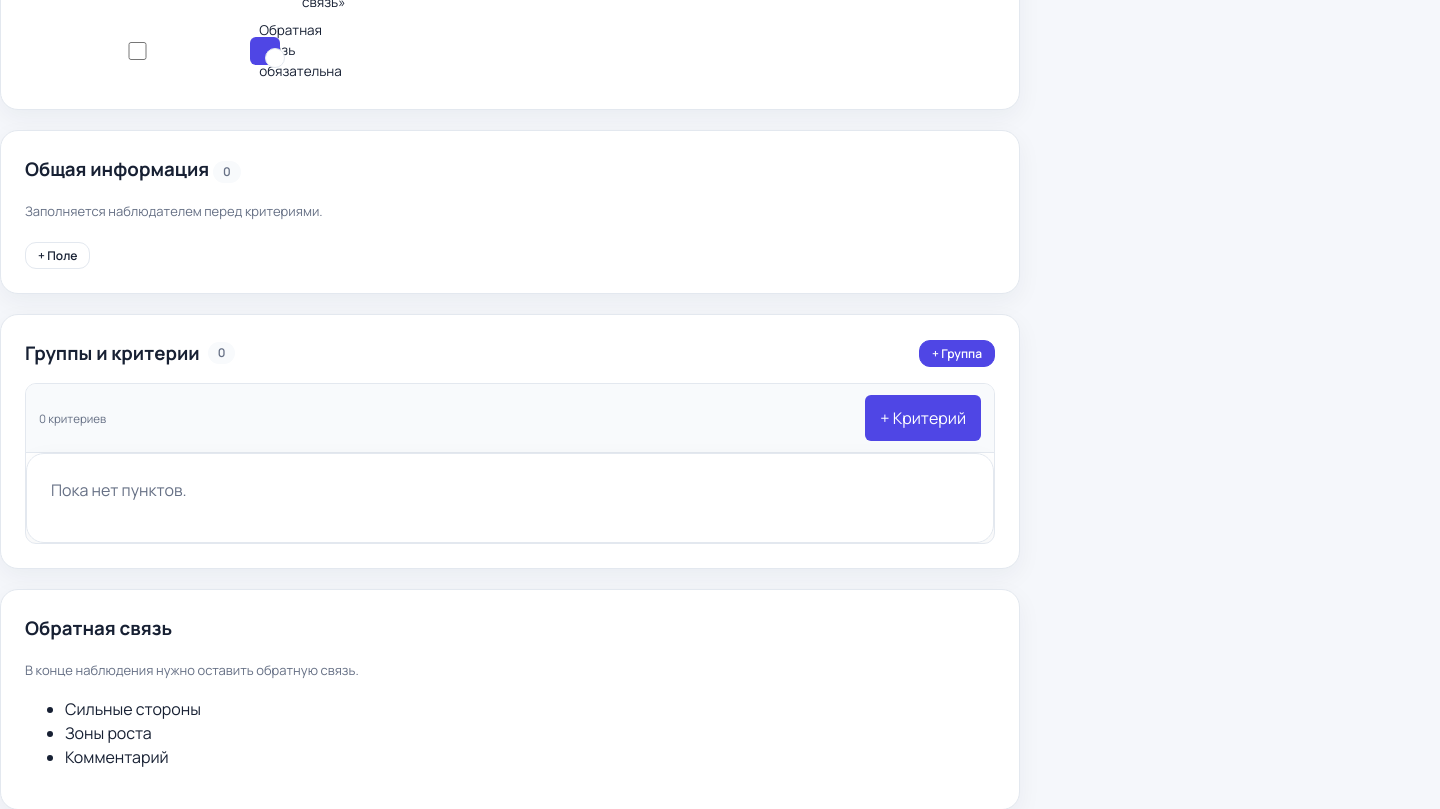
Test: PR 358: keeps the server-selected default scale and uses it in a sum-points preview
(page scrolled)
Click the button "+ Критерий": (923, 418) [865, 395, 981, 441]
(page scrolled)
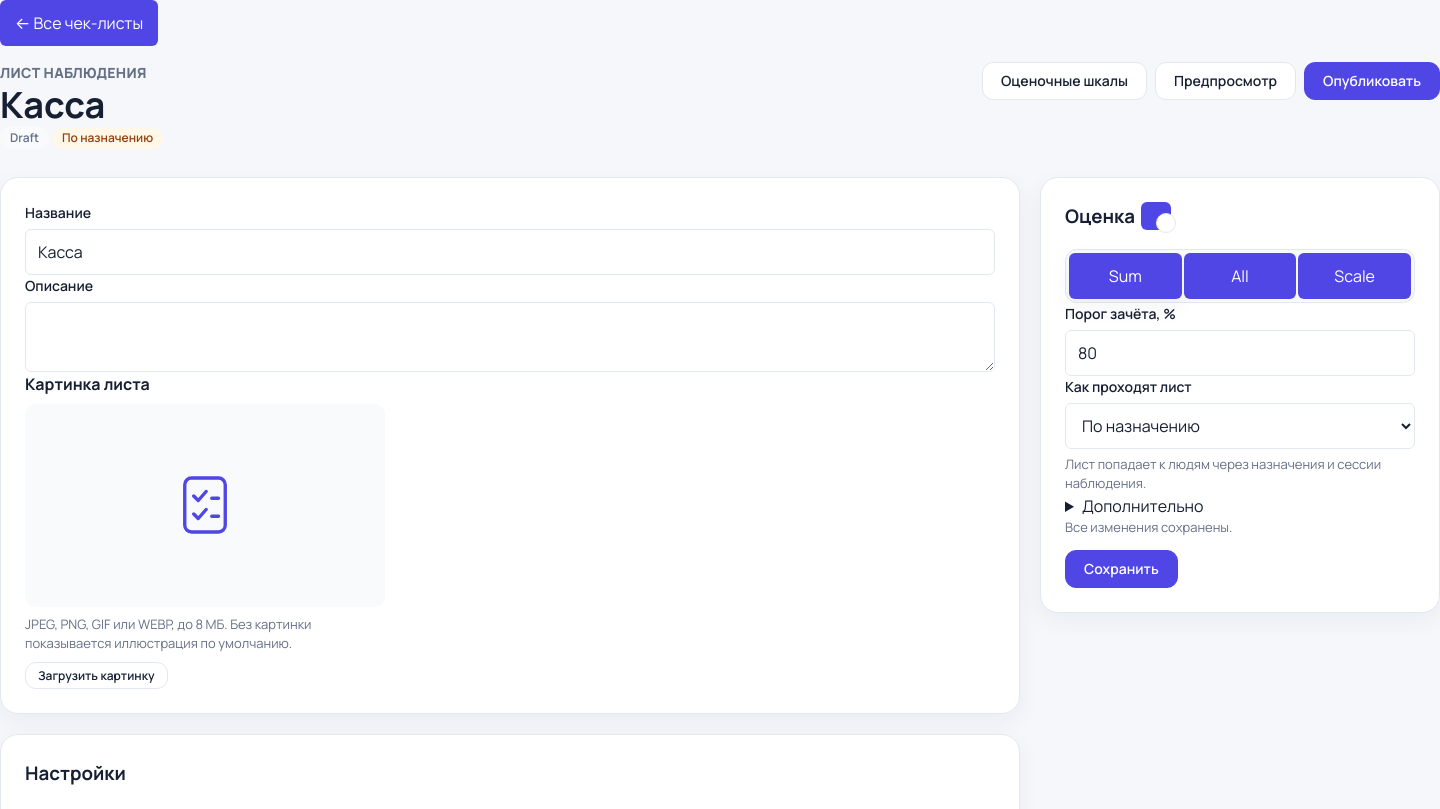
Click the button "Предпросмотр": (1226, 81) [1155, 62, 1296, 100]
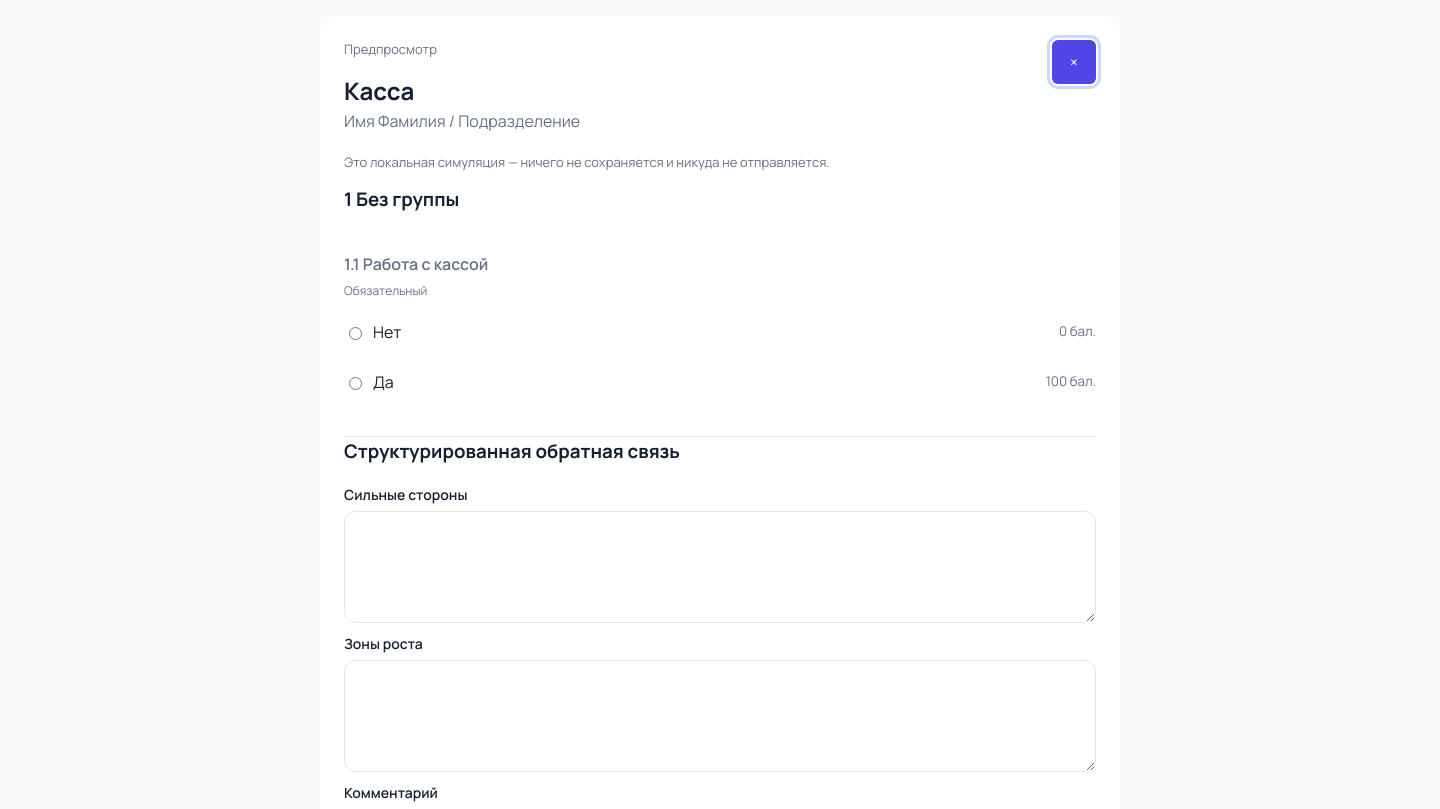
Click the radio button labelled "Нет 0 бал.": (356, 333) [349, 327, 362, 340]
(page scrolled)
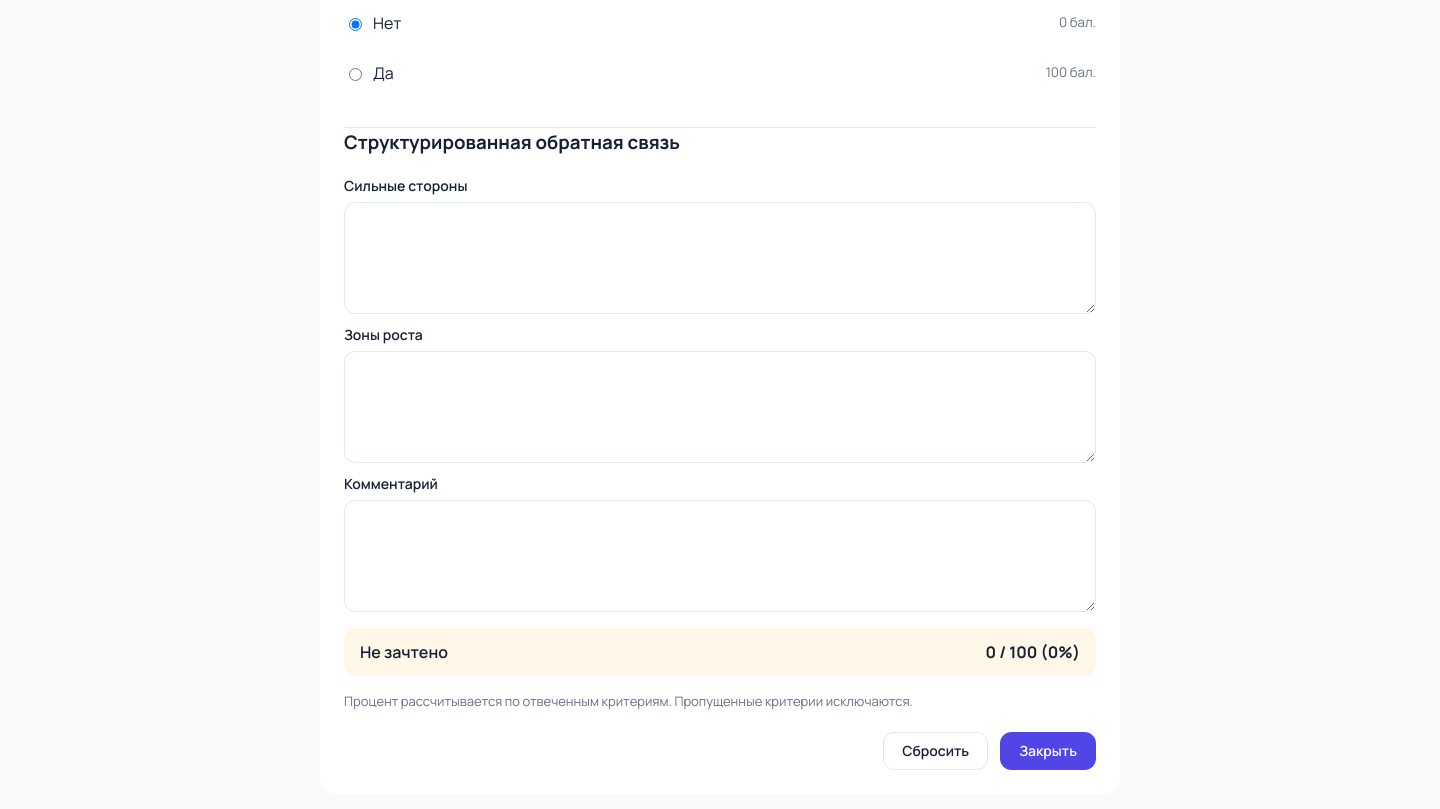
Check: the radio button labelled "Нет 0 бал." is checked, box [349, 18, 362, 31]
Check: the message with class "admin-preview-result" shows "0 / 100 (0%)", box [344, 628, 1096, 676]
